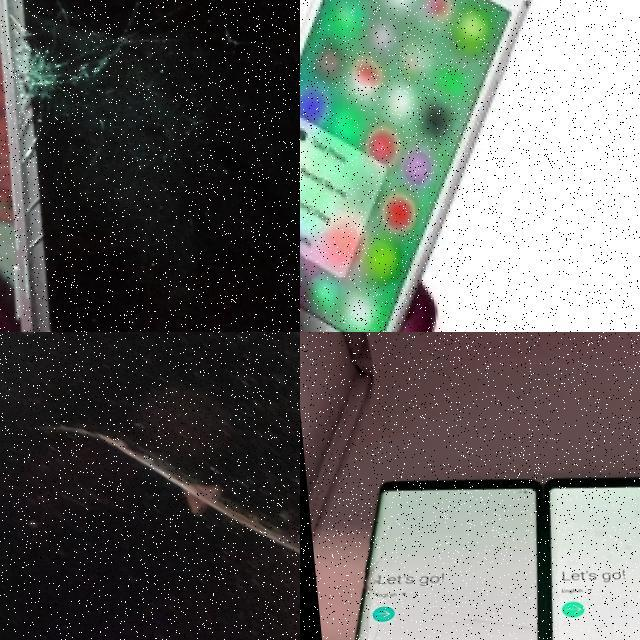screen crack: (0, 0, 300, 332), (18, 374, 300, 640), (327, 543, 395, 640), (417, 599, 544, 640)
